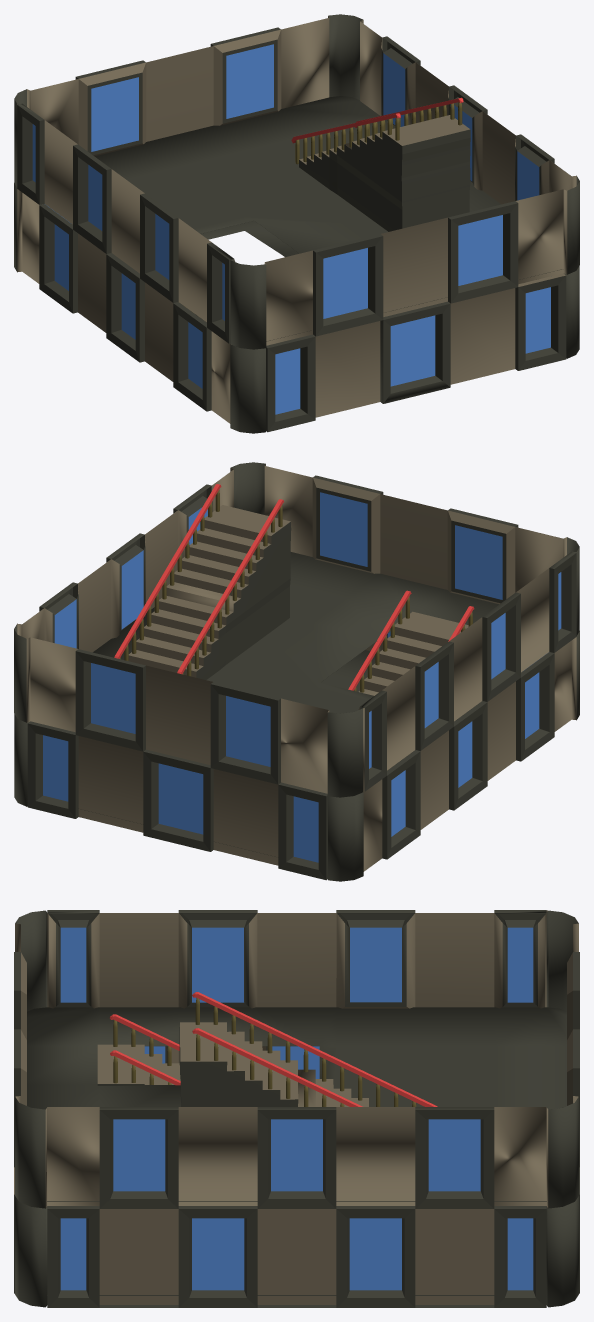
File: Hotel Interior 3.fbx
The picture shows the model from 3 angles, top to bottom: view 1: azimuth 30°, elevation 25°; view 2: azimuth 150°, elevation 25°; view 3: azimuth 270°, elevation 25°; orthographic projection. The views are drawn at different scales.
Parts seen in each view (by area): view 1: hotel basado.006; view 2: hotel basado.006; view 3: hotel basado.006.
Boxes of the visible parts, <box> form: hotel basado.006: <box>14,14,579,433</box>; hotel basado.006: <box>14,462,579,881</box>; hotel basado.006: <box>14,910,579,1307</box>.
Size of the model in its own units: 1861 by 1136 by 2225.
